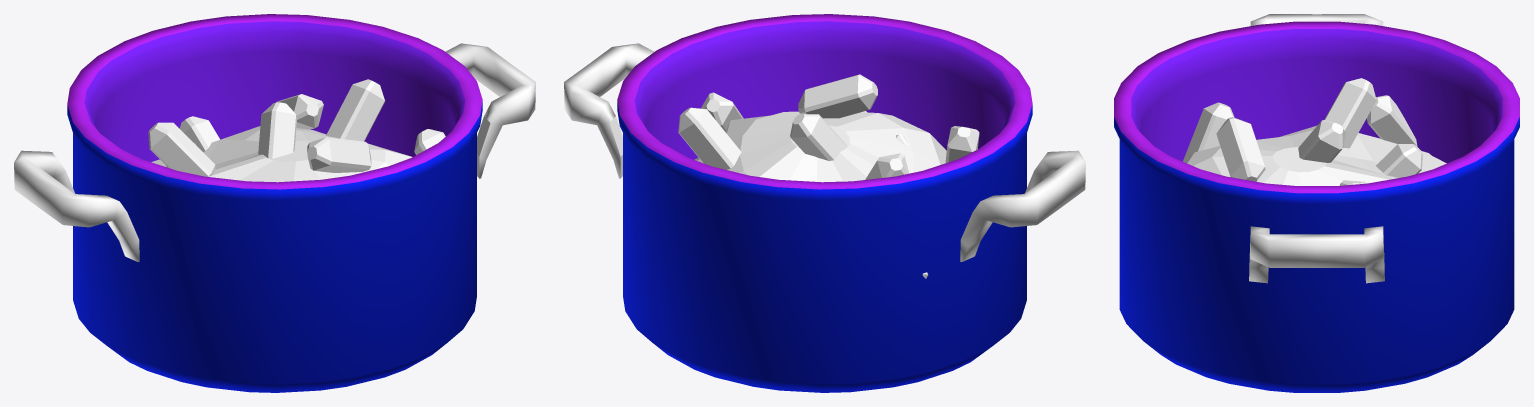
File: Cooked Rice Pot.fbx
3 views of the same model, side by side, from view 1: azimuth 30°, elevation 25°; view 2: azimuth 150°, elevation 25°; view 3: azimuth 270°, elevation 25° (orthographic).
Visible parts, largest first — view 1: Cylinder, Cube, Cylinder_003, Cylinder_001; view 2: Cylinder, Cylinder_001, Cylinder_003, Cube; view 3: Cylinder, Cube, Cylinder_003, Cylinder_001, Cube_1.
Part boxes in pixels (<box>): Cylinder: <box>67,14,482,392</box>; Cube: <box>148,79,445,176</box>; Cylinder_003: <box>14,43,535,261</box>; Cylinder_001: <box>151,126,412,182</box>; Cylinder: <box>617,14,1032,392</box>; Cylinder_001: <box>694,111,946,182</box>; Cylinder_003: <box>564,43,1085,261</box>; Cube: <box>678,74,979,278</box>; Cylinder: <box>1114,21,1519,392</box>; Cube: <box>1183,78,1417,185</box>; Cylinder_003: <box>1249,14,1384,283</box>; Cylinder_001: <box>1187,125,1446,185</box>; Cube_1: <box>1376,144,1422,177</box>.
Bounding box in the file's own units: 83.38 × 35.99 × 62.94.
